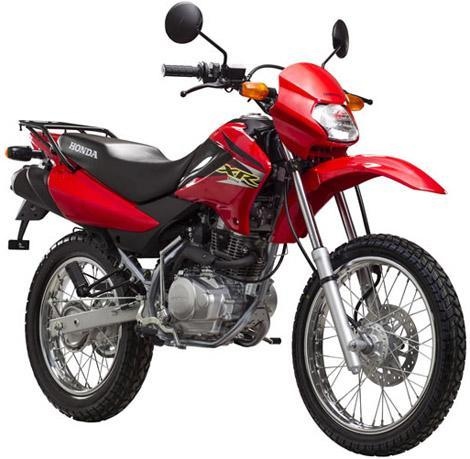motorbike: (7, 1, 466, 458)
